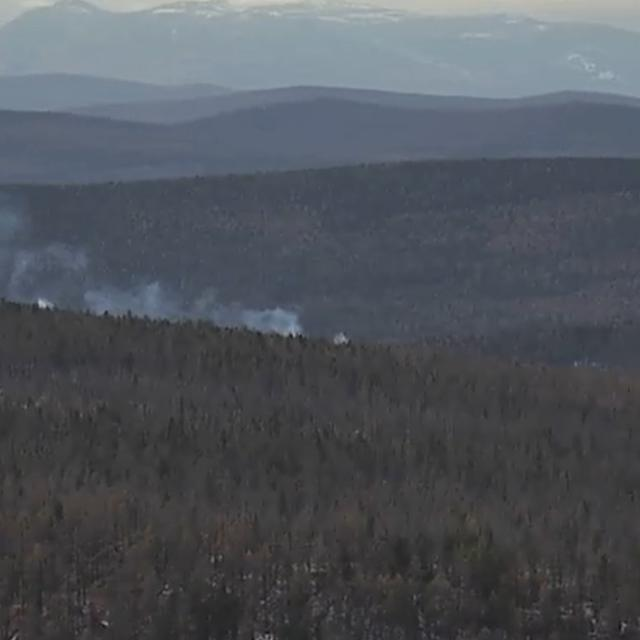Smoke: (0, 207, 349, 343)
